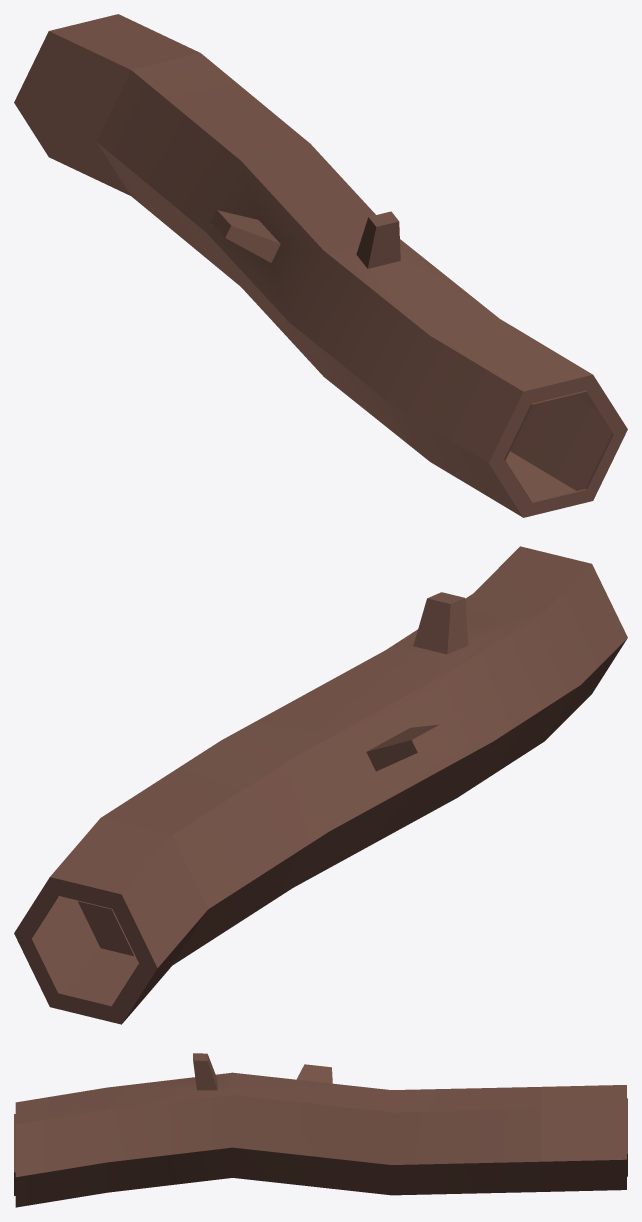
Rendered from LOG.glb.
The picture shows the model from 3 angles, top to bottom: view 1: azimuth 30°, elevation 25°; view 2: azimuth 150°, elevation 25°; view 3: azimuth 270°, elevation 25°; orthographic projection. The views are drawn at different scales.
Parts seen in each view (by area): view 1: LOG; view 2: LOG; view 3: LOG.
Part boxes in pixels (x1,y1,x2,y2): LOG: (14, 14, 627, 517); LOG: (14, 546, 627, 1024); LOG: (14, 1053, 627, 1207).
Bounding box in the file's own units: 0.0423 × 0.0417 × 0.1799.
1 material, 1 textured.
